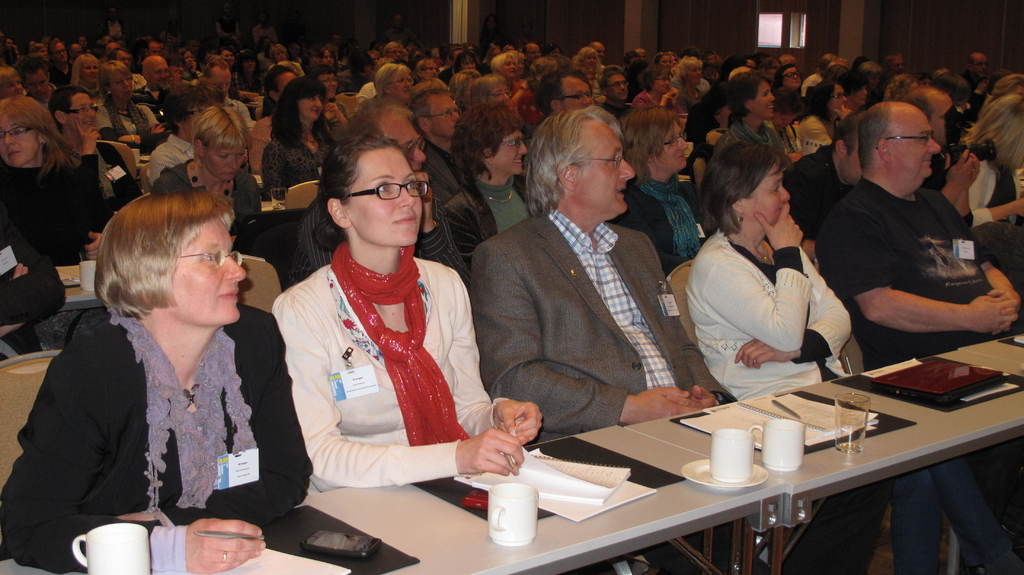Human-face: (172, 218, 246, 324), (344, 150, 420, 245), (578, 129, 634, 214), (892, 109, 940, 179), (745, 164, 790, 225), (383, 117, 426, 173), (0, 117, 36, 166), (492, 130, 528, 176), (653, 122, 687, 170), (430, 95, 459, 138), (203, 150, 243, 181), (67, 93, 95, 134), (753, 80, 776, 118), (563, 79, 591, 107), (388, 68, 410, 98), (298, 94, 323, 120), (607, 74, 628, 99), (829, 84, 848, 108), (486, 86, 508, 102), (785, 68, 800, 90), (502, 56, 515, 77)
